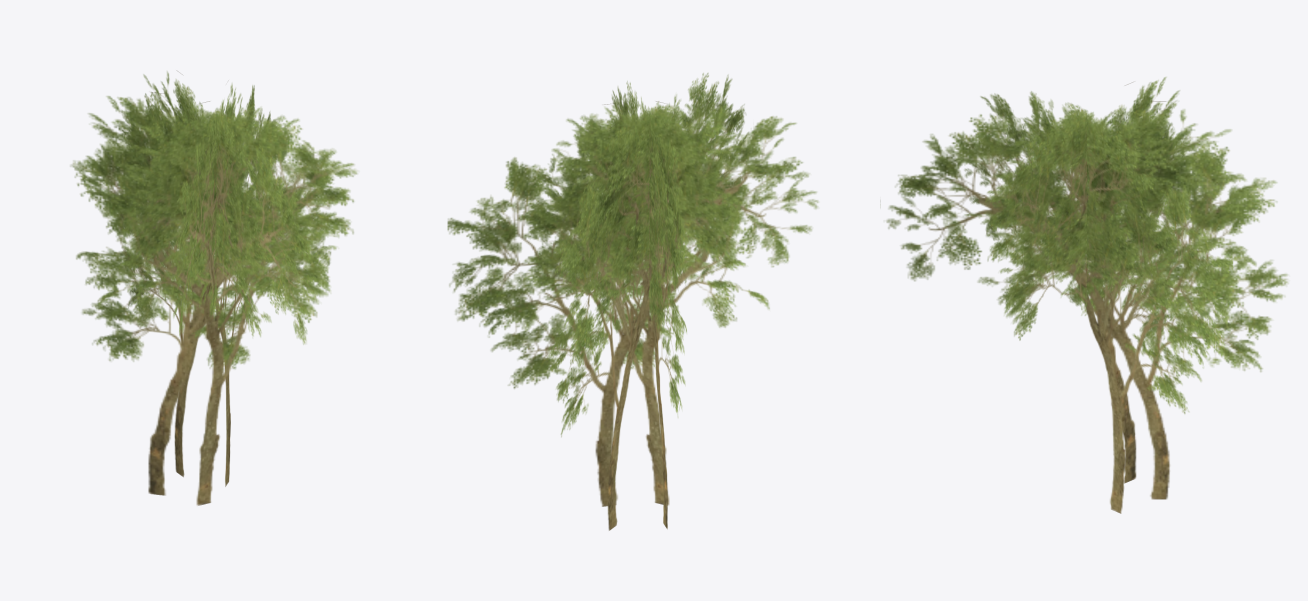
Rendered from bushtree.glb.
3 renders of one model, left to right at view 1: azimuth 30°, elevation 25°; view 2: azimuth 150°, elevation 25°; view 3: azimuth 270°, elevation 25°, orthographic.
Parts seen in each view (by area): view 1: bushtree_lod1; view 2: bushtree_lod1; view 3: bushtree_lod1.
Boxes of the visible parts, box(x1,y1,x2,y2) form: bushtree_lod1: box(70, 71, 357, 505); bushtree_lod1: box(447, 73, 818, 530); bushtree_lod1: box(880, 77, 1288, 513).
Bounding box in the file's own units: 5.77 × 6.12 × 5.77.
1 material, 1 textured.
